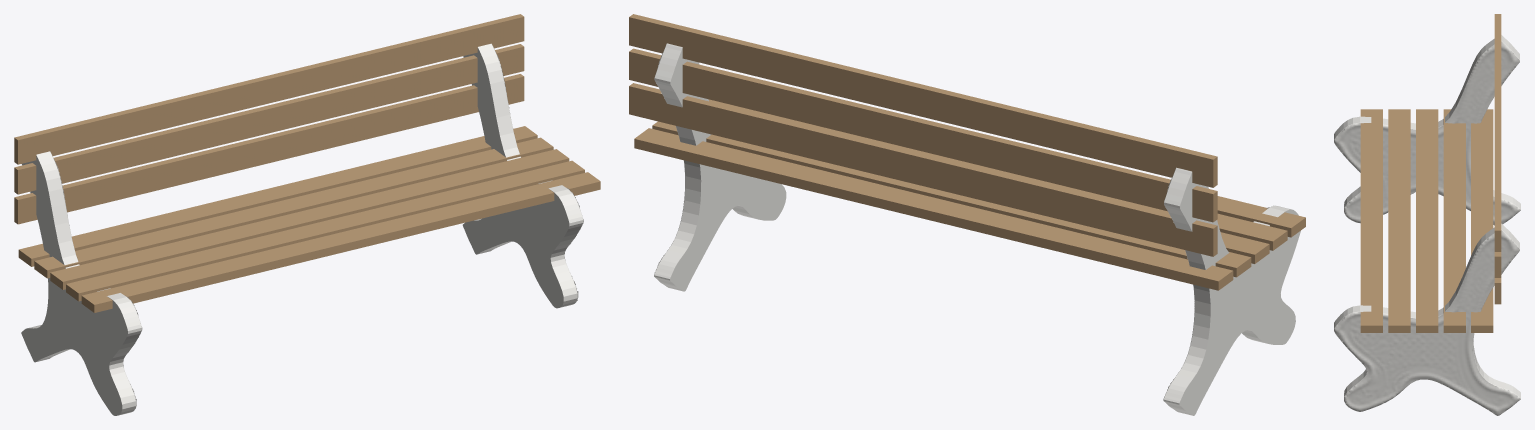
File: terilgan.glb
3 views of the same model, side by side, from view 1: azimuth 30°, elevation 25°; view 2: azimuth 150°, elevation 25°; view 3: azimuth 270°, elevation 25° (orthographic). The views are drawn at different scales.
Visible parts, largest first — view 1: Orqa2, Orqa1, Orqa0, t-1, Sed0, t1, Sed2, Sed1, Sed3, Sed4; view 2: Orqa2, Orqa0, Orqa1, Sed4, t-1, t1, Sed3, Sed1, Sed0, Sed2; view 3: t1, t-1, Sed1, Sed2, Sed0, Sed3, Sed4, Orqa2, Orqa0, Orqa1.
Part boxes in pixels (x1,y1,x2,y2): Orqa2: (14, 14, 524, 164); Orqa1: (14, 44, 524, 194); Orqa0: (14, 74, 524, 224); t-1: (21, 151, 142, 415); Sed0: (81, 172, 600, 312); t1: (462, 43, 583, 308); Sed2: (50, 149, 569, 289); Sed1: (66, 160, 584, 301); Sed3: (34, 137, 553, 278); Sed4: (18, 126, 537, 266); Orqa2: (629, 14, 1217, 187); Orqa0: (629, 83, 1217, 256); Orqa1: (629, 48, 1217, 222); Sed4: (634, 128, 1233, 290); t-1: (1163, 167, 1300, 415); t1: (654, 43, 786, 291); Sed3: (652, 121, 1251, 277); Sed1: (708, 99, 1287, 250); Sed0: (1217, 196, 1305, 237); Sed2: (1220, 232, 1269, 263); t1: (1334, 223, 1520, 415); t-1: (1334, 35, 1520, 225); Sed1: (1388, 109, 1410, 332); Sed2: (1416, 109, 1438, 332); Sed0: (1360, 109, 1382, 332); Sed3: (1443, 109, 1465, 332); Sed4: (1471, 109, 1493, 332); Orqa2: (1494, 14, 1501, 251); Orqa0: (1494, 278, 1501, 304); Orqa1: (1494, 252, 1501, 277).
Bounding box in the file's own units: 1.95 × 0.8381 × 0.7114.
